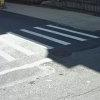Crosswalk: (4, 23, 86, 64)
